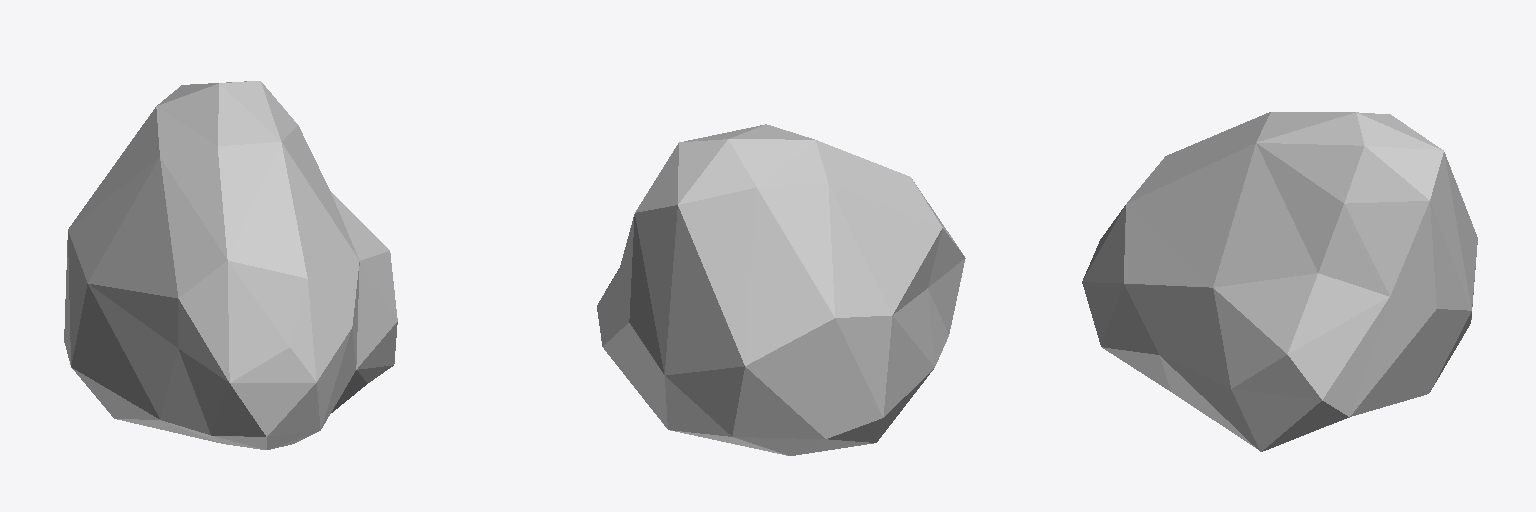
Rendered from kamien_2.obj.
3 views of the same model, side by side, from view 1: azimuth 30°, elevation 25°; view 2: azimuth 150°, elevation 25°; view 3: azimuth 270°, elevation 25° (orthographic).
Visible parts, largest first — view 1: rock.002; view 2: rock.002; view 3: rock.002.
Boxes of the visible parts, box(x1,y1,x2,y2) form: rock.002: box(64, 81, 397, 449); rock.002: box(597, 124, 965, 455); rock.002: box(1082, 112, 1477, 451).
Size of the model in its own units: 0.597 by 0.5485 by 0.6817.